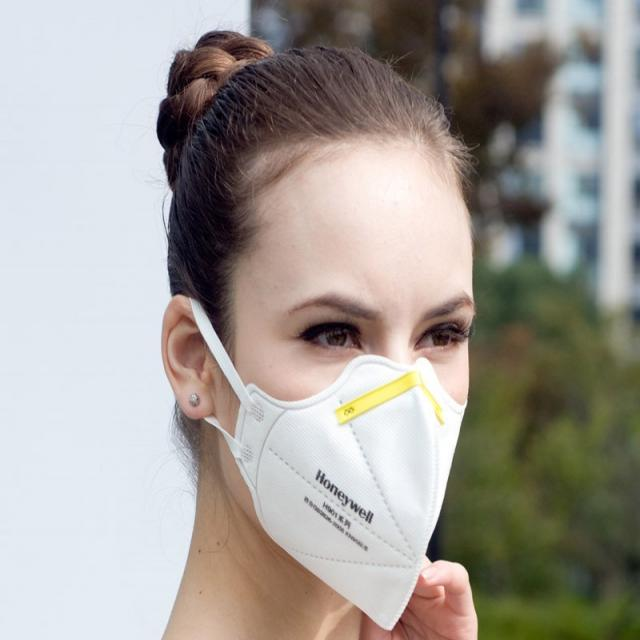mask: (221, 169, 475, 555)
